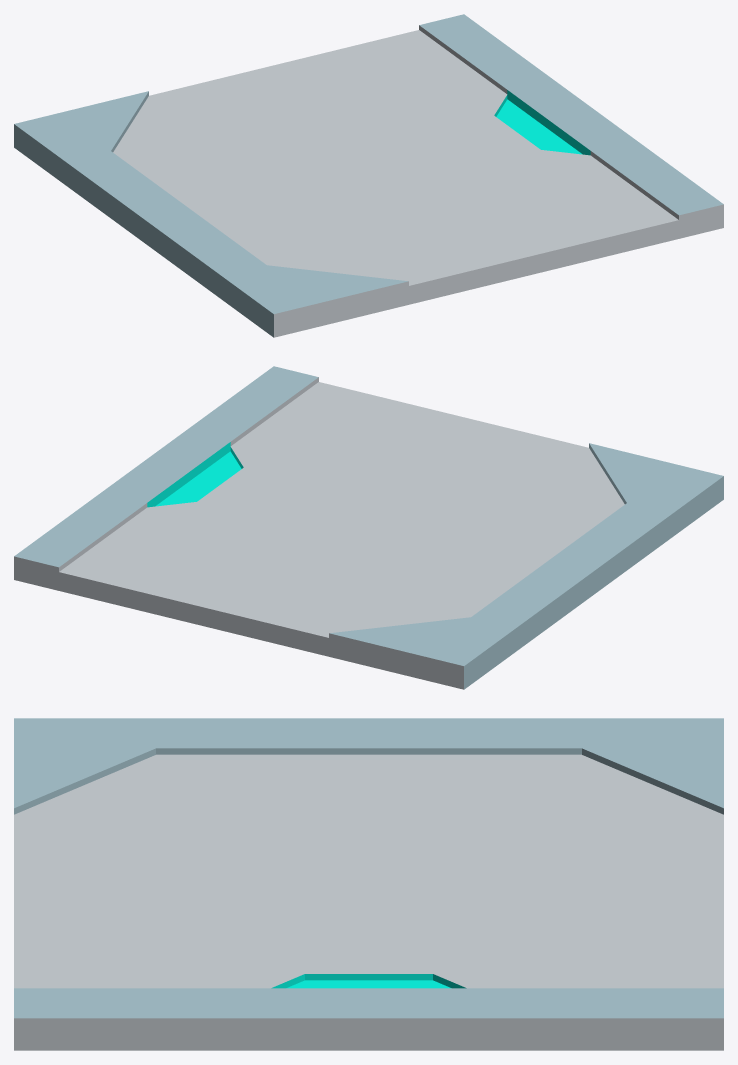
Rendered from floor-05.fbx.
The picture shows the model from 3 angles, top to bottom: view 1: azimuth 30°, elevation 25°; view 2: azimuth 150°, elevation 25°; view 3: azimuth 270°, elevation 25°; orthographic projection. The views are drawn at different scales.
Visible parts, largest first — view 1: floor-05; view 2: floor-05; view 3: floor-05.
Boxes of the visible parts, box(x1,y1,x2,y2) form: floor-05: box(14, 14, 723, 337); floor-05: box(14, 366, 723, 689); floor-05: box(14, 718, 723, 1050).
Bounding box in the file's own units: 100 × 5 × 100.
